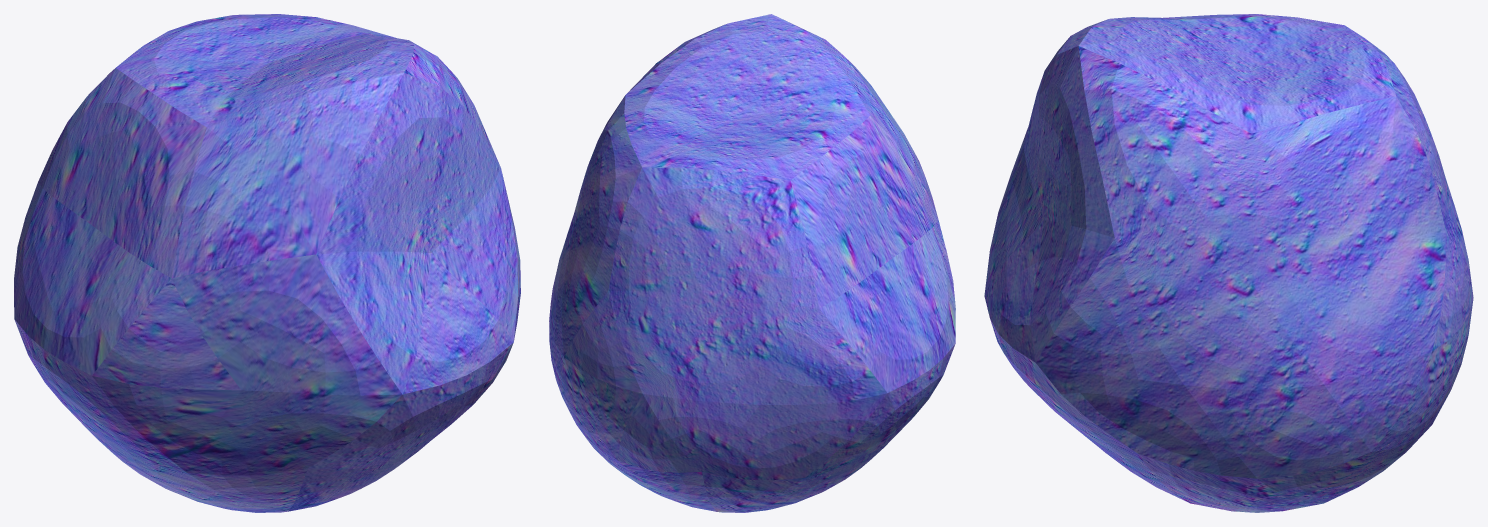
Rendered from bigasteroid3_LOD2.fbx.
The picture shows the model from 3 angles, left to right: view 1: azimuth 30°, elevation 25°; view 2: azimuth 150°, elevation 25°; view 3: azimuth 270°, elevation 25°; orthographic projection. The views are drawn at different scales.
Visible parts, largest first — view 1: Icosphere; view 2: Icosphere; view 3: Icosphere.
Part boxes in pixels (box(x1,y1,x2,y2)): Icosphere: box(14, 14, 520, 512); Icosphere: box(549, 14, 955, 512); Icosphere: box(984, 14, 1473, 512).
Size of the model in its own units: 203 by 225 by 211.
